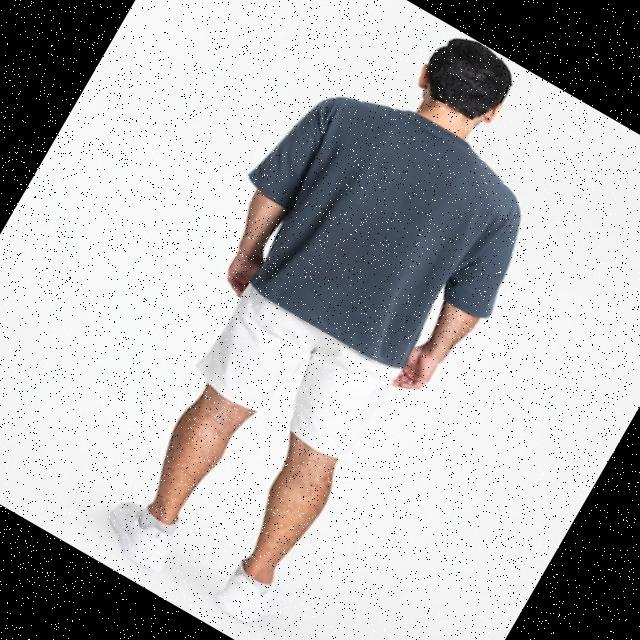Person: (49, 0, 601, 640)
